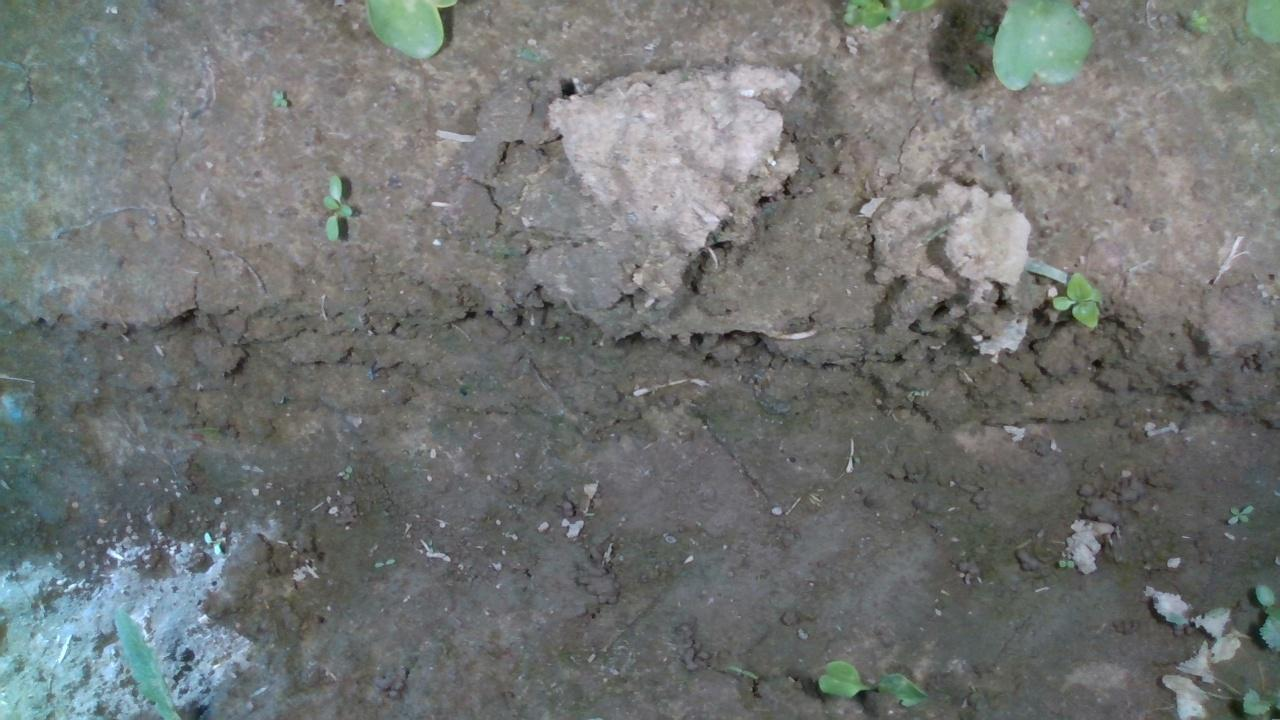weed: (1050, 265, 1106, 332), (321, 171, 351, 241), (1226, 502, 1254, 525), (267, 86, 289, 109), (1054, 556, 1076, 569)
